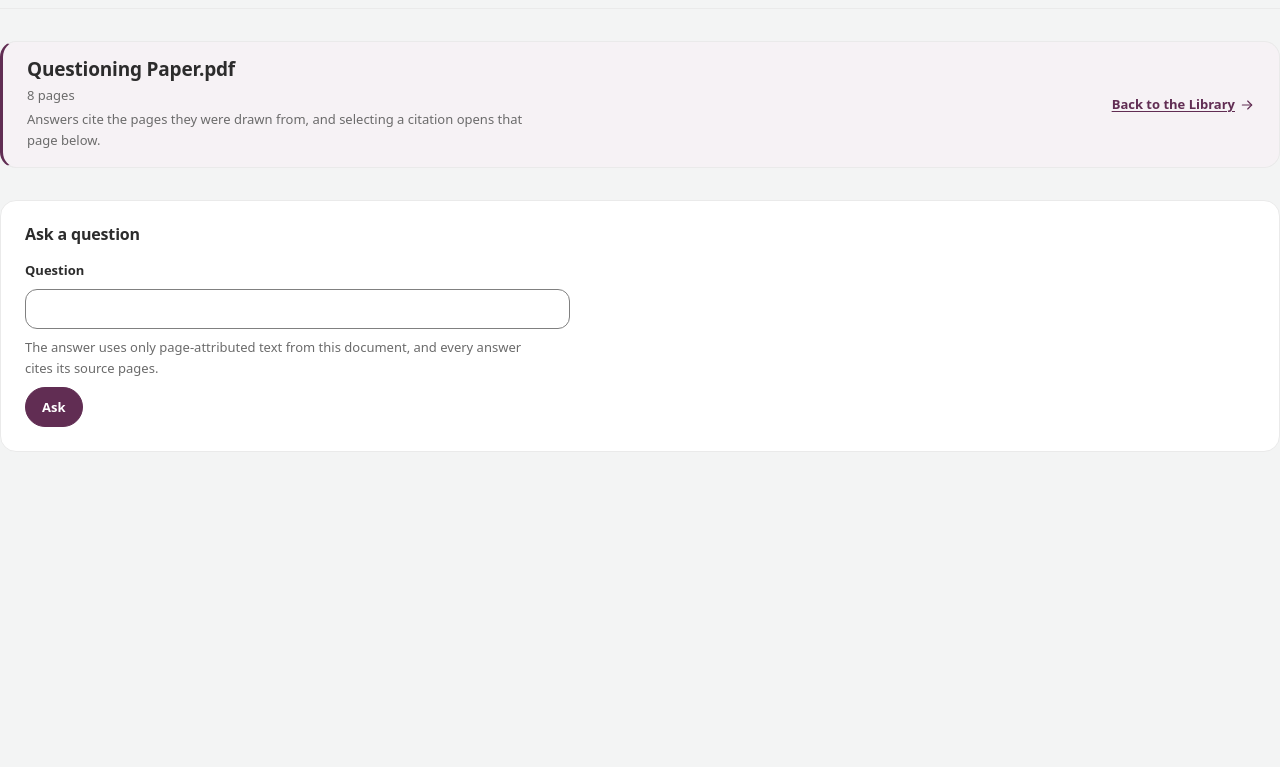
Test: Chat › never shows text fetched for a page other than the one cited
Type "What penalty applies to late filings?" into the field labelled "Question" at {"x": 297, "y": 309}, box [25,289,570,329]
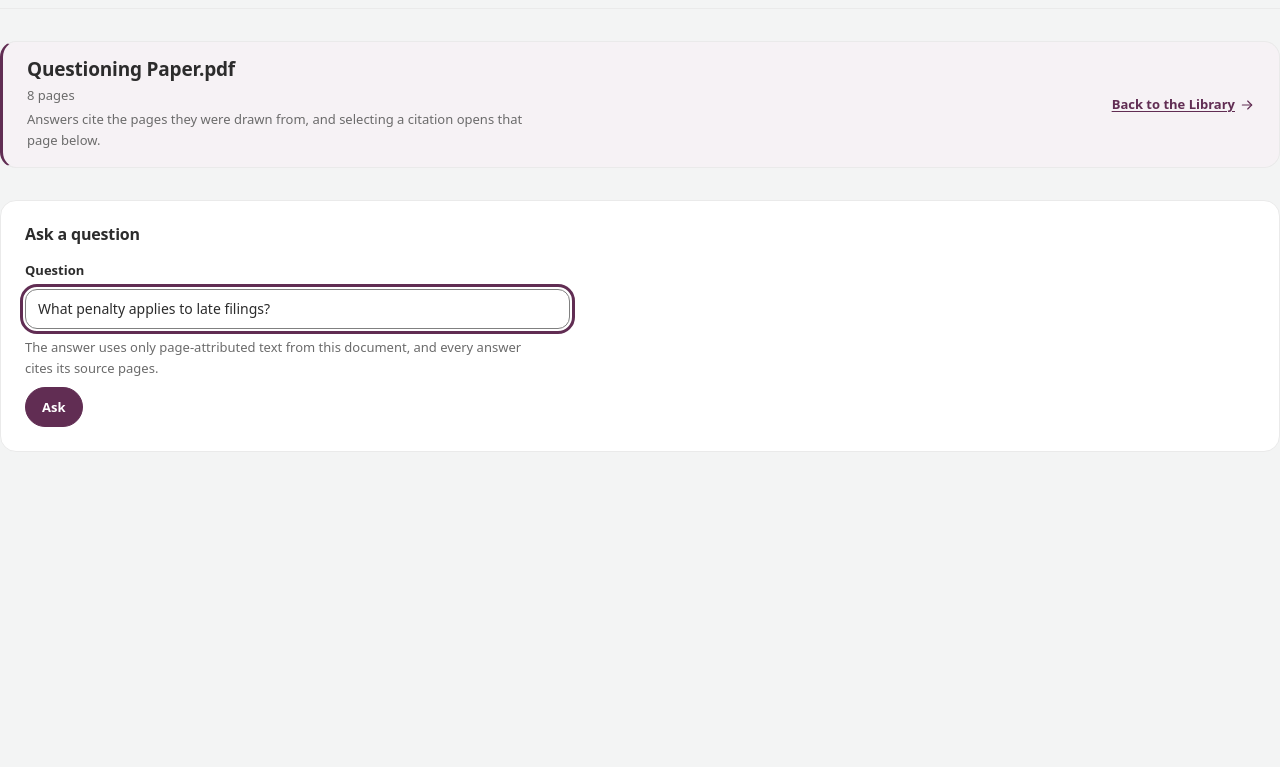
Click the button "Ask" at {"x": 54, "y": 407}, box [25,387,82,427]
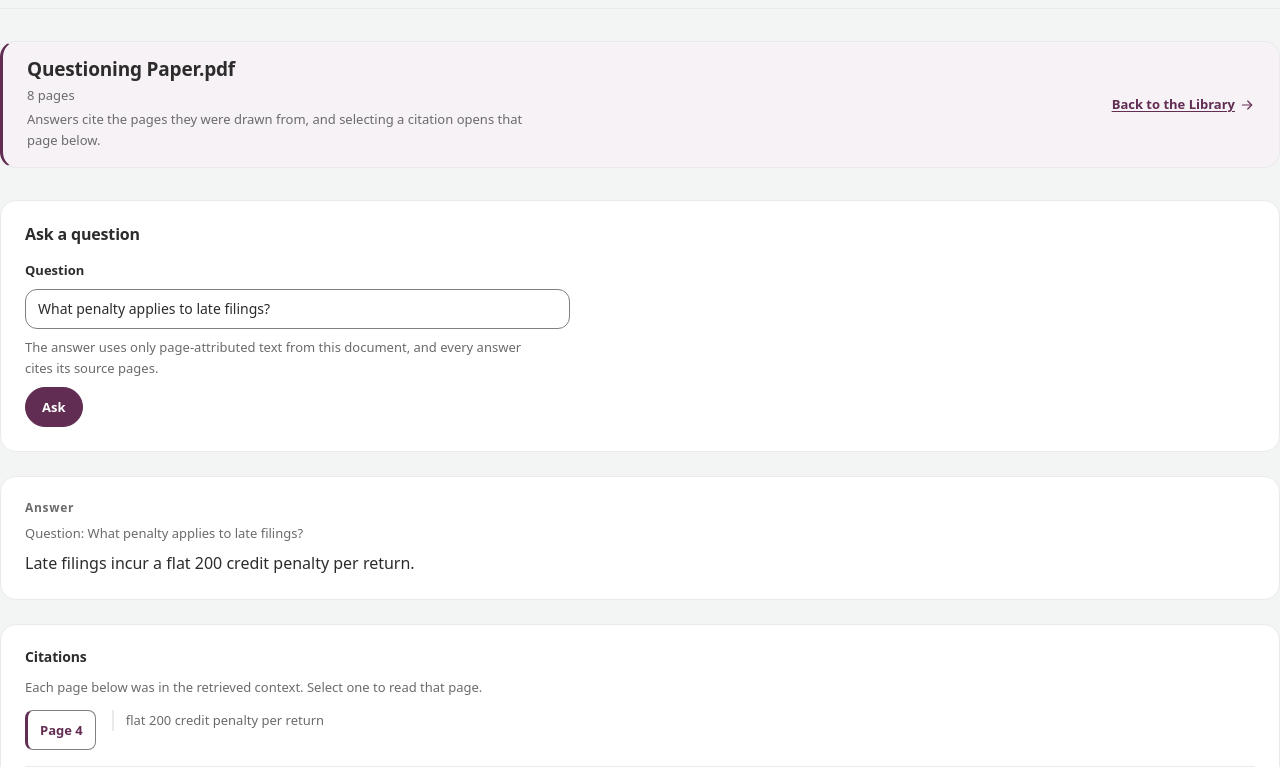
Expected: the text "Late filings incur a flat 200 credit penalty per return." is shown, [25,552,415,574]
Click the button "Page 4" at {"x": 60, "y": 730}, box [25,710,96,750]
(page scrolled)
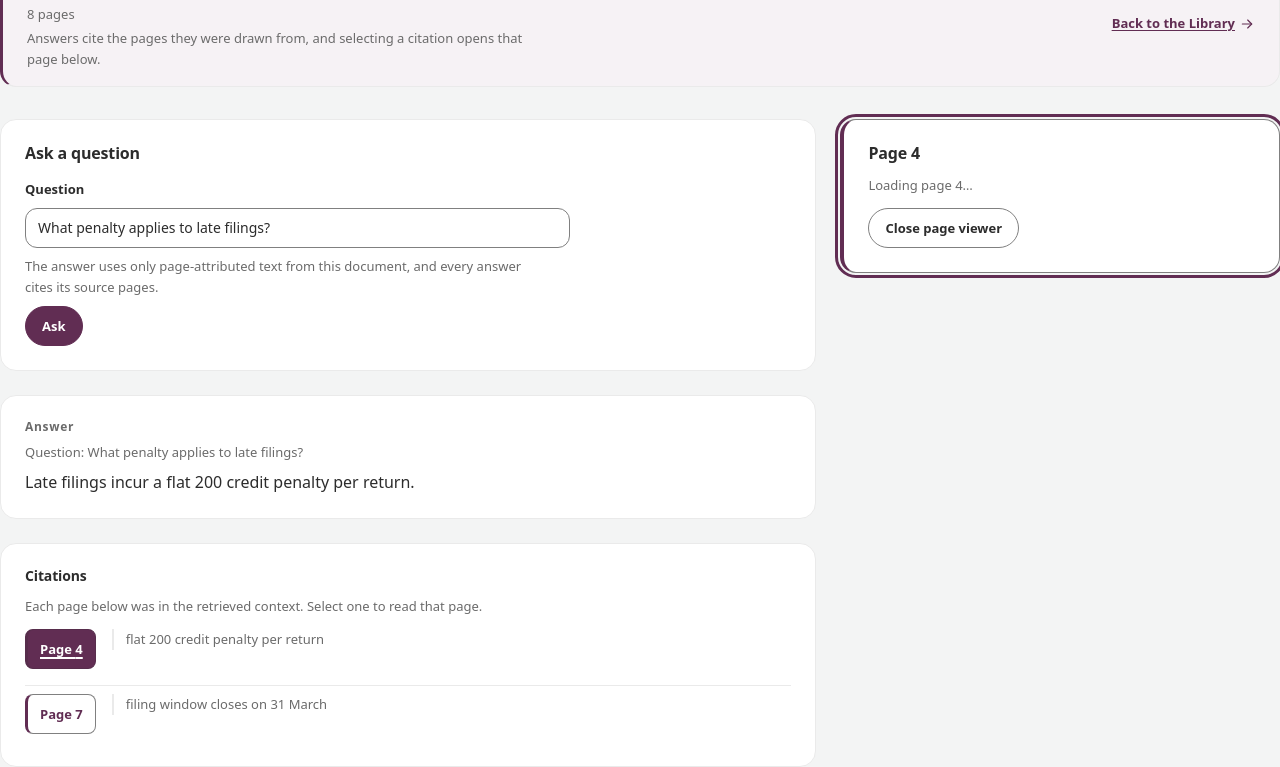
Click the button "Page 7" at {"x": 60, "y": 714}, box [25,694,96,734]
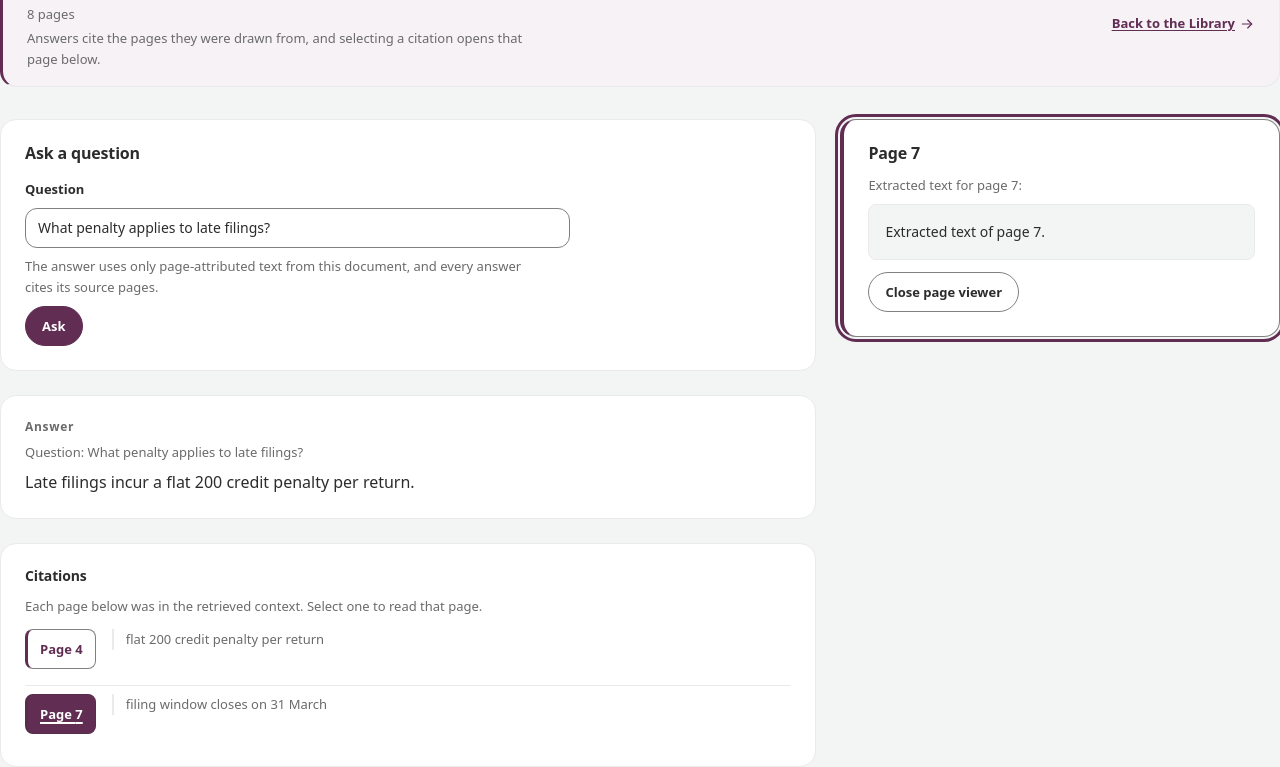
Expected: the text "Extracted text of page 7." is shown, [868,204,1255,260]
Expected: the dialog "Page 7" shows "Extracted text of page 7.", [885,222,1045,241]
